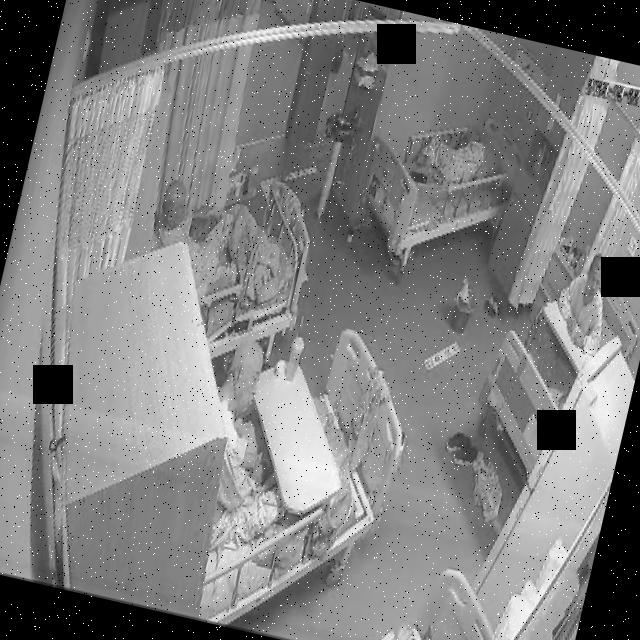bed: (183, 309, 423, 640), (464, 248, 640, 497), (159, 165, 324, 379), (350, 92, 522, 276)
lie: (406, 120, 492, 206)
patient: (182, 328, 324, 563), (138, 165, 252, 302), (546, 245, 622, 358), (406, 119, 493, 205)
sit: (179, 326, 323, 566), (138, 164, 252, 300), (546, 244, 620, 356)
